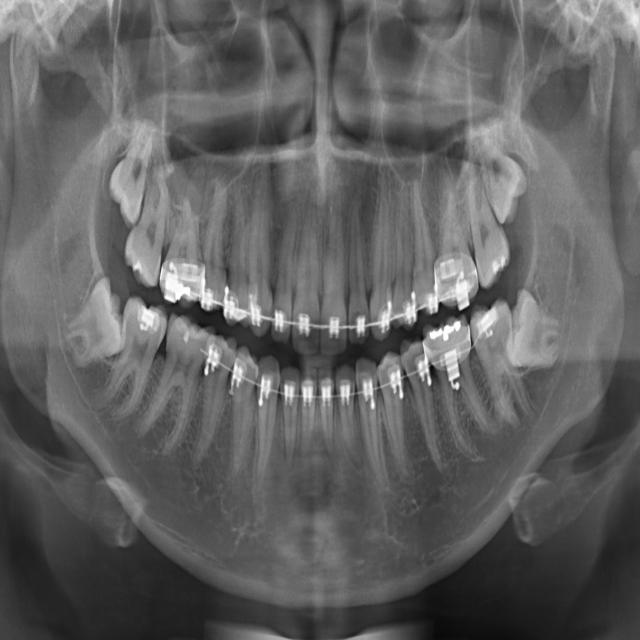AmalgamRestoration: (427, 315, 462, 349)
CompositeResinRestoration: (129, 240, 147, 282), (489, 250, 513, 280), (181, 321, 196, 352)
ImpactedTooth: (64, 263, 124, 369), (509, 284, 572, 380)
